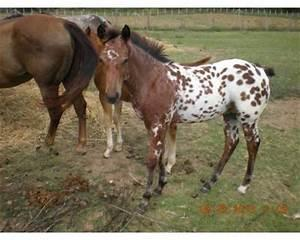horse: (98, 23, 275, 208), (0, 12, 99, 154)
